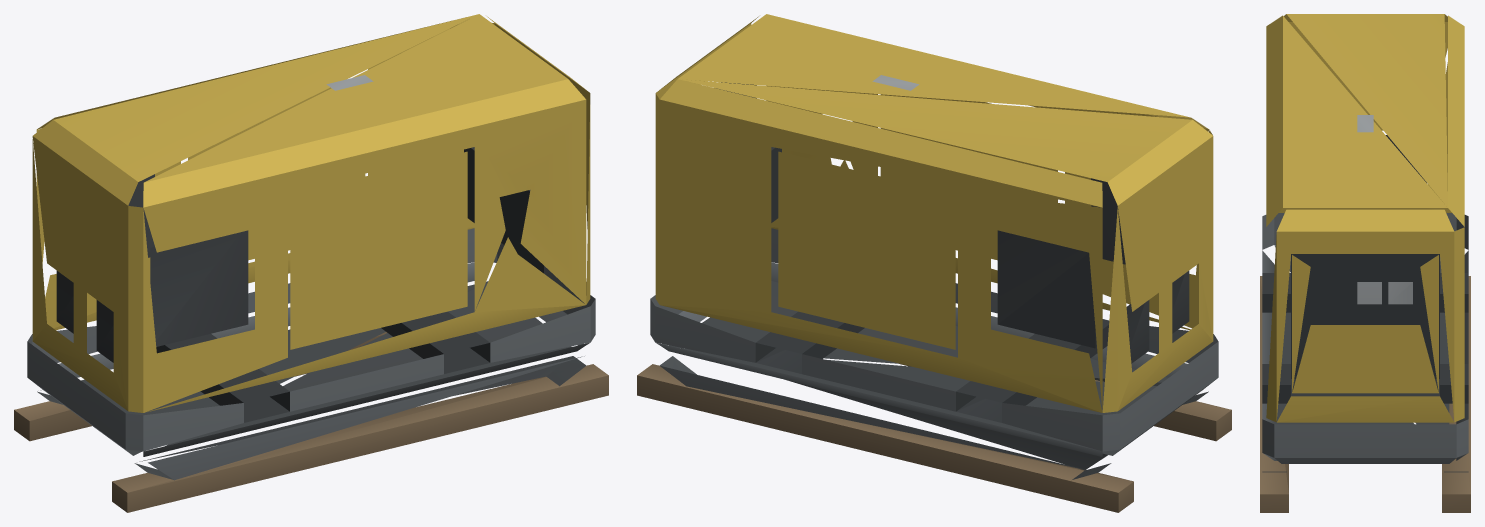
File: generator.lod.glb
The picture shows the model from 3 angles, left to right: view 1: azimuth 30°, elevation 25°; view 2: azimuth 150°, elevation 25°; view 3: azimuth 270°, elevation 25°; orthographic projection. The views are drawn at different scales.
Parts seen in each view (by area): view 1: generator; view 2: generator; view 3: generator.
Boxes of the visible parts, left/top/right/bottom form: generator: left=14, top=14, right=608, bottom=512; generator: left=637, top=14, right=1231, bottom=512; generator: left=1260, top=14, right=1470, bottom=512.
Size of the model in its own units: 2.5 by 1.59 by 1.02.
